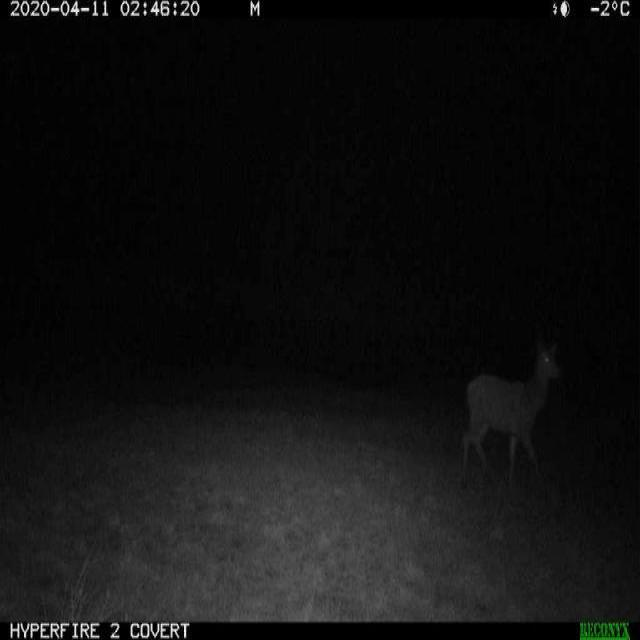deer: (458, 320, 566, 509)
